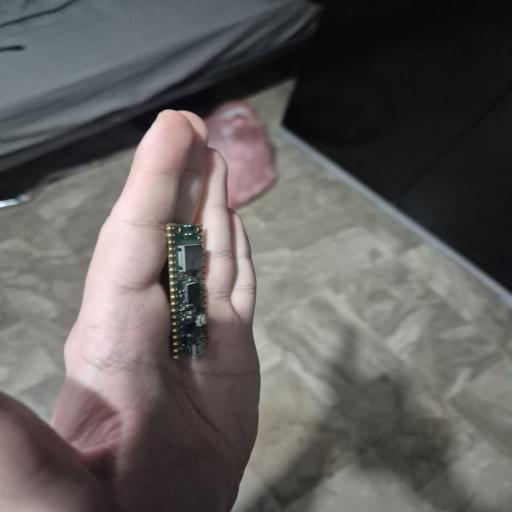raspberry-pi-pico-w: (162, 223, 209, 359)
